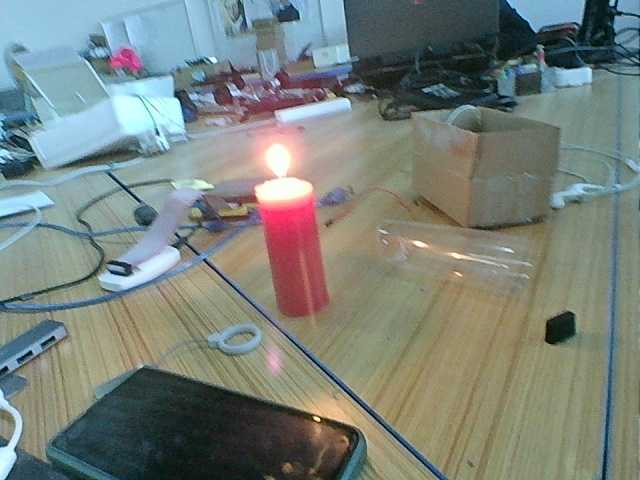candle: (252, 184, 333, 320)
fire: (254, 146, 304, 181)
